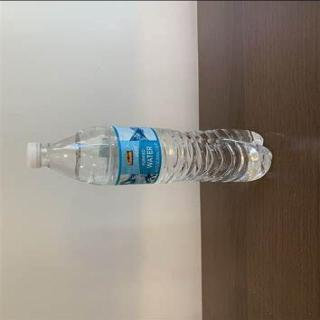Anorganik: (20, 122, 275, 188)
